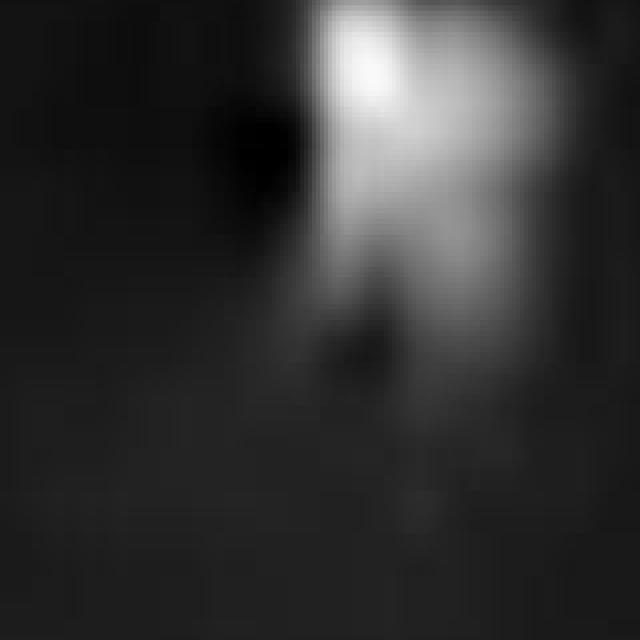person: (265, 1, 565, 396)
